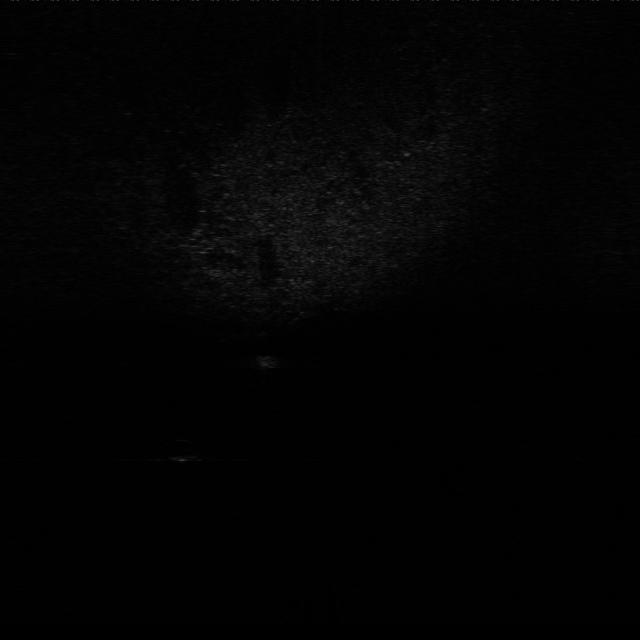ball: (168, 435, 201, 465)
cube: (256, 350, 284, 370)
